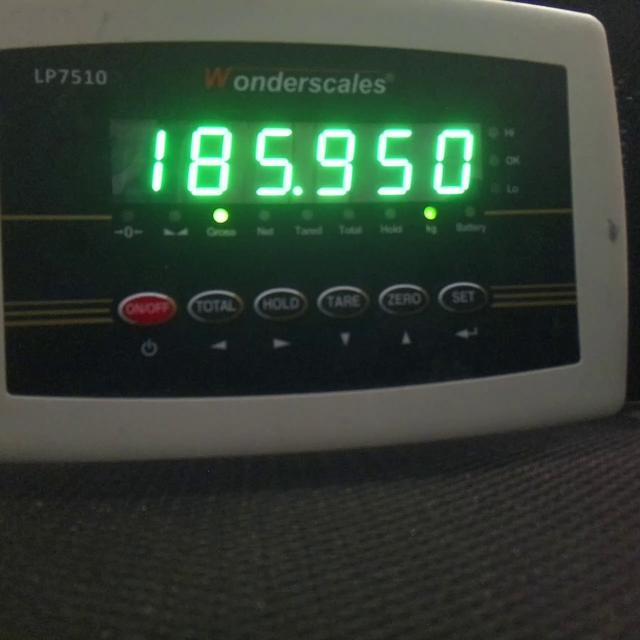.: (292, 185, 302, 196)
0: (434, 128, 474, 195)
1: (150, 129, 167, 192)
5: (251, 124, 297, 198), (374, 127, 414, 195)
8: (186, 125, 232, 196)
9: (315, 128, 356, 197)
